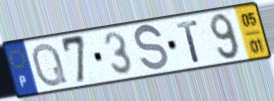3: (103, 30, 134, 78)
7: (58, 33, 88, 87)
9: (208, 12, 242, 62)
Q: (30, 40, 70, 89)
S: (133, 22, 170, 75)
T: (175, 18, 202, 64)
